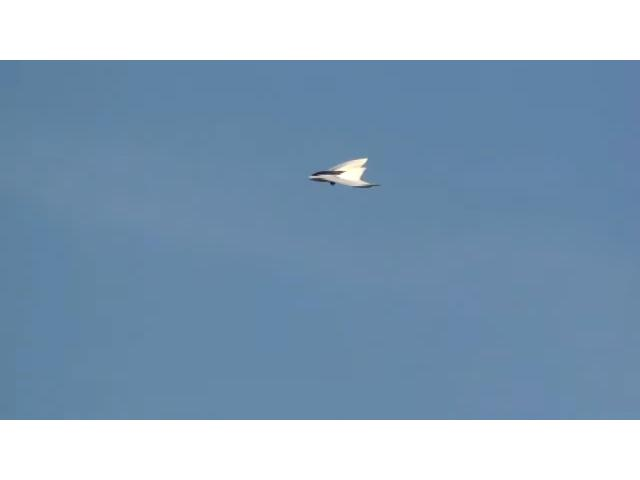Anti-Drone: (310, 159, 378, 189)
